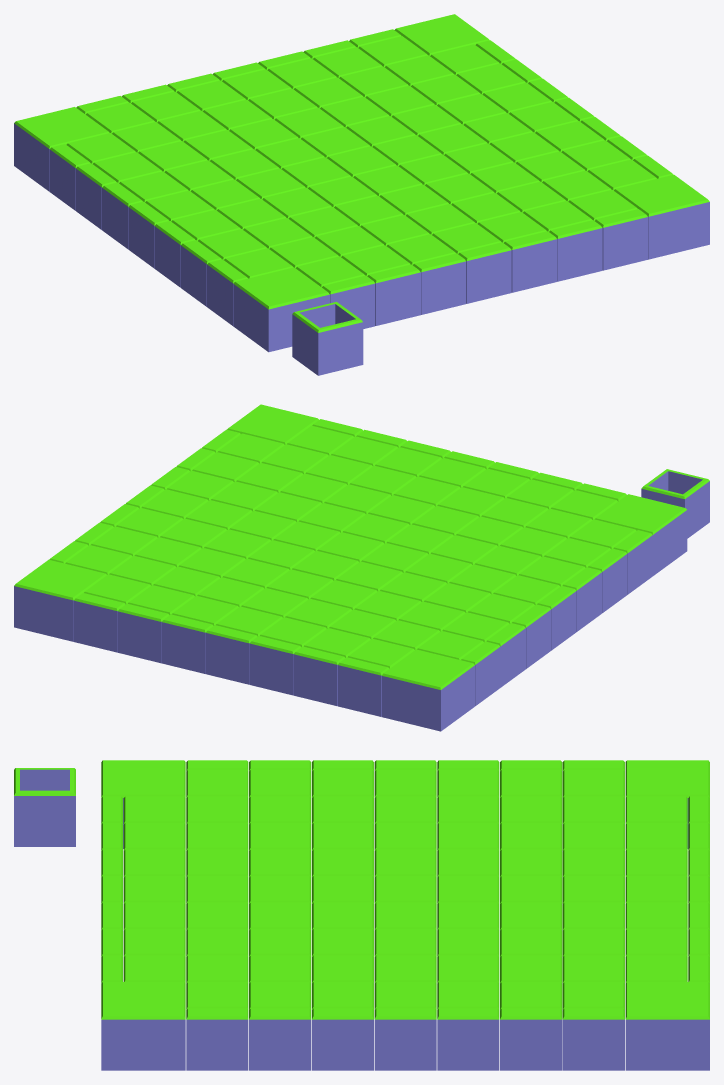
File: tutorialmap_03.FBX
The picture shows the model from 3 angles, top to bottom: view 1: azimuth 30°, elevation 25°; view 2: azimuth 150°, elevation 25°; view 3: azimuth 270°, elevation 25°; orthographic projection. The views are drawn at different scales.
Visible parts, largest first — view 1: Group001, Box035, Box066, Box060, Box048, Box042, Box054, Box050, Box051, Box039, Box040, Box044 (+19 smaller); view 2: Group001, Box066, Box035, Box065, Box054, Box060, Box042, Box048, Box046, Box052, Box062, Box040 (+20 smaller); view 3: Group001, Box066, Box035, Box041, Box047, Box053, Box059, Box050, Box056, Box058, Box037, Box039 (+20 smaller).
Boxes of the visible parts, x1,y1,x2,y2 form: Group001: (14,29,709,352); Box035: (292,302,363,375); Box066: (394,14,489,55); Box060: (49,144,90,210); Box048: (102,182,142,248); Box042: (128,201,168,268); Box054: (76,163,116,229); Box050: (229,119,298,149); Box051: (183,130,252,160); Box039: (236,168,305,199); Box040: (190,179,259,210); Box044: (255,138,324,168); Group001: (49,404,687,731); Box066: (14,559,106,641); Box035: (641,469,709,538); Box065: (337,657,389,716); Box054: (486,623,525,687); Box060: (461,641,500,706); Box042: (537,586,576,650); Box048: (512,604,551,668); Box046: (424,583,490,612); Box052: (398,601,465,631); Box062: (260,617,326,647); Box040: (449,564,515,594); Group001: (101,760,709,1070); Box066: (625,982,709,1070); Box035: (14,768,75,846); Box041: (374,769,436,797); Box047: (437,769,499,797); Box053: (500,769,562,797); Box059: (562,769,624,797); Box050: (500,849,562,877); Box056: (562,849,624,877); Box058: (562,796,624,824); Box037: (374,876,436,903); Box039: (374,823,436,850).
Bounding box in the file's own units: 425 × 41.34 × 485.
